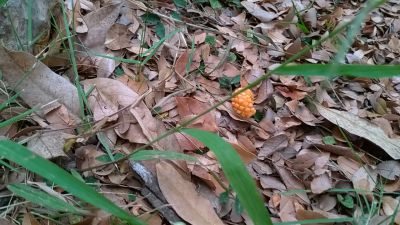eggs: (228, 85, 257, 119)
